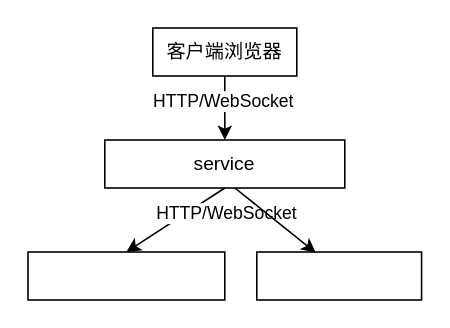
This 450x328 diagram has some shape labels left out. The centre of each missing label's shape, as x and y in pixels:
登录节点: the point at 338,275
计算节点: the point at 125,275
